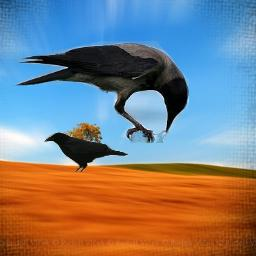Crow: (14, 41, 189, 143), (42, 130, 128, 172)
